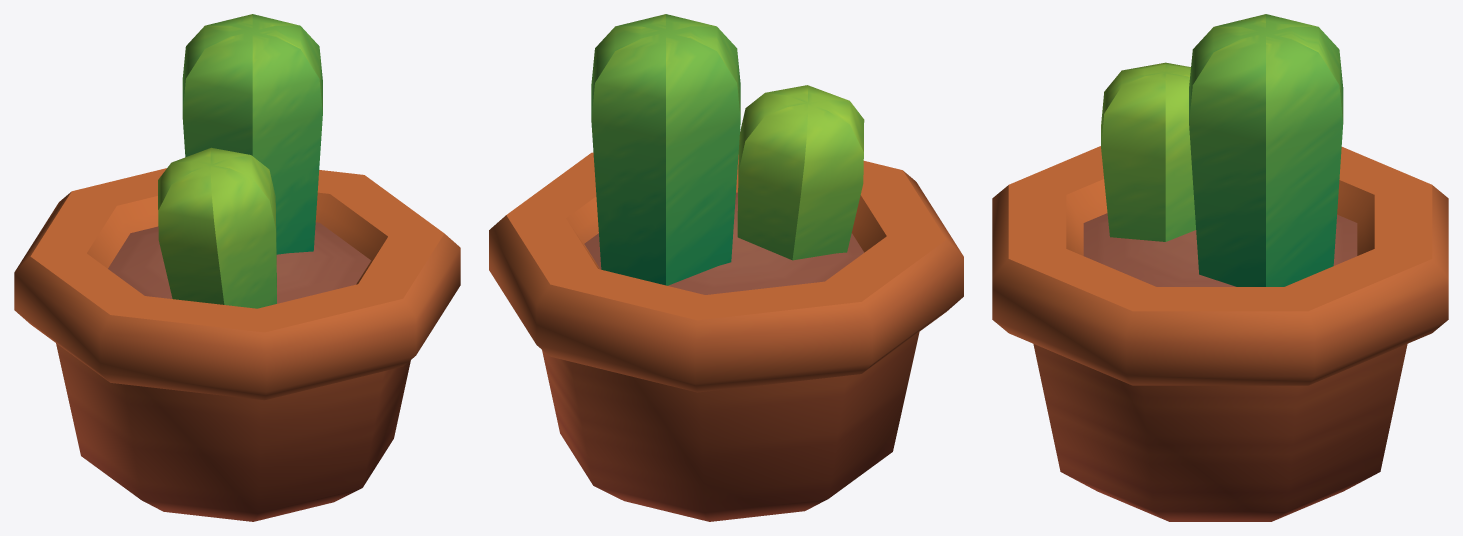
Rendered from furniture-cactus-small-a.gltf.
The picture shows the model from 3 angles, left to right: view 1: azimuth 30°, elevation 25°; view 2: azimuth 150°, elevation 25°; view 3: azimuth 270°, elevation 25°; orthographic projection. The views are drawn at different scales.
Parts seen in each view (by area): view 1: cactus_small_A; view 2: cactus_small_A; view 3: cactus_small_A.
Boxes of the visible parts, <box> form: cactus_small_A: <box>14,14,460,521</box>; cactus_small_A: <box>489,14,963,521</box>; cactus_small_A: <box>992,14,1448,521</box>.
Bounding box in the file's own units: 0.5 × 0.5516 × 0.5.
Materials: 1 (1 with a texture image).
